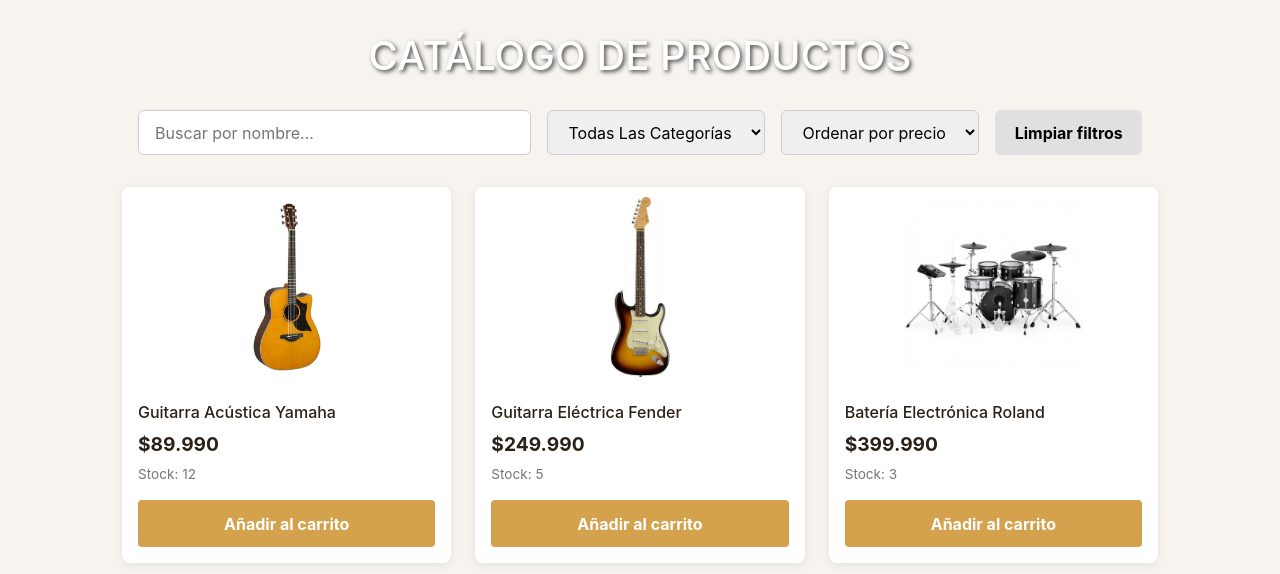
Test: Página Productos › debe agregar al carrito el producto correcto y avisar
The width and height of the screenshot is (1280, 574).
Step 1. Click the button "Añadir al carrito" below "Stock: 12" → (287, 524), box [138, 500, 435, 547]
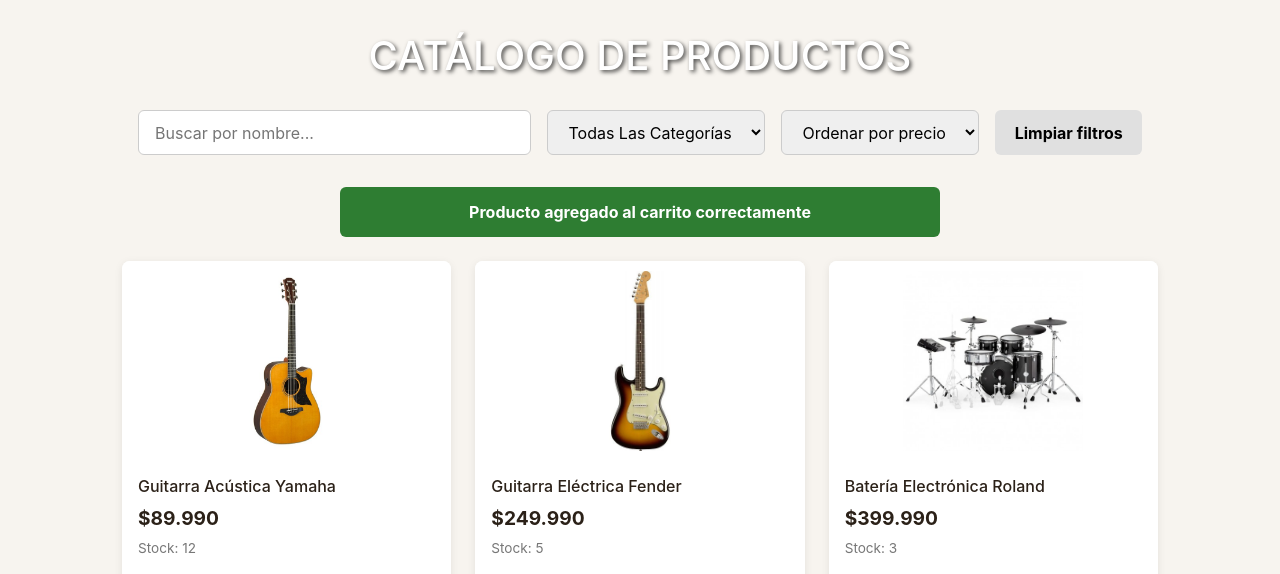
Expected: the message reads "Producto agregado al carrito correctamente", [469, 202, 811, 222]
